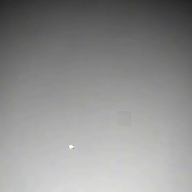Target: (67, 143, 75, 150)
